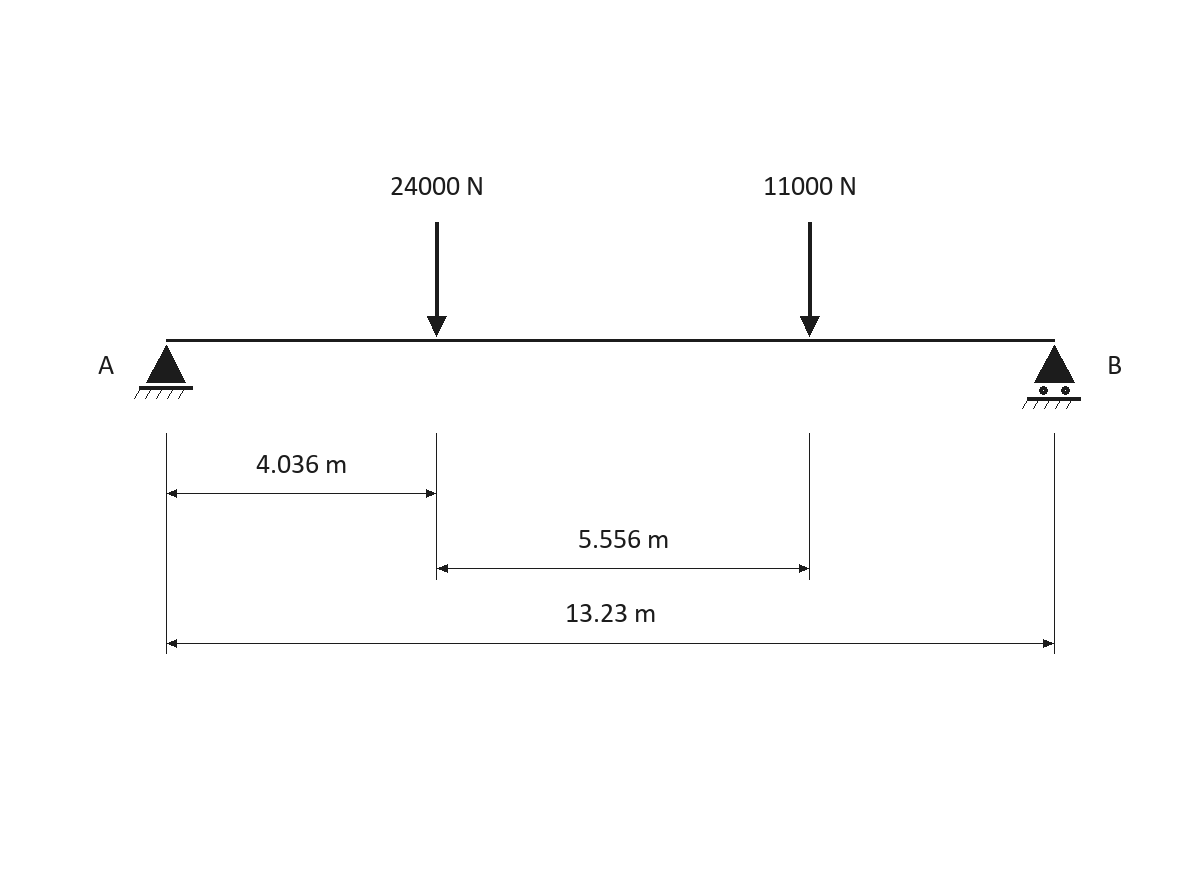pin_support: (134, 345, 193, 399)
point_load: (427, 222, 447, 337), (800, 222, 820, 337)
roller_support: (1022, 345, 1081, 409)
